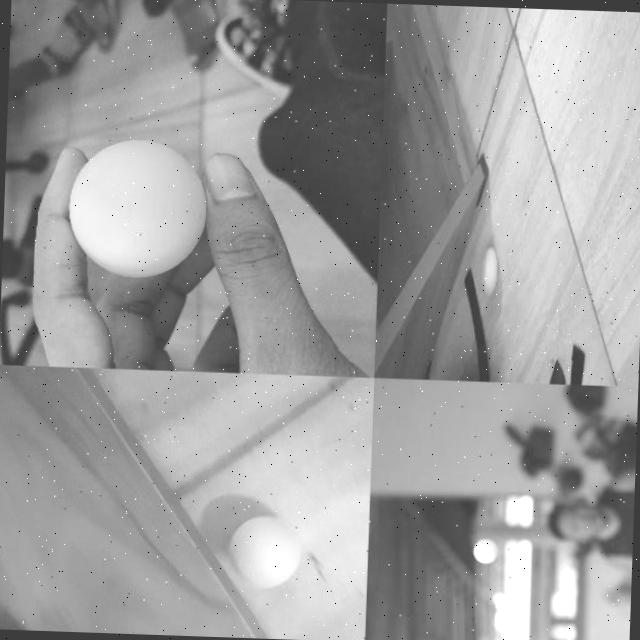ping-pong-ball: (66, 138, 207, 284), (228, 516, 302, 590), (481, 248, 496, 292), (472, 538, 497, 562)
